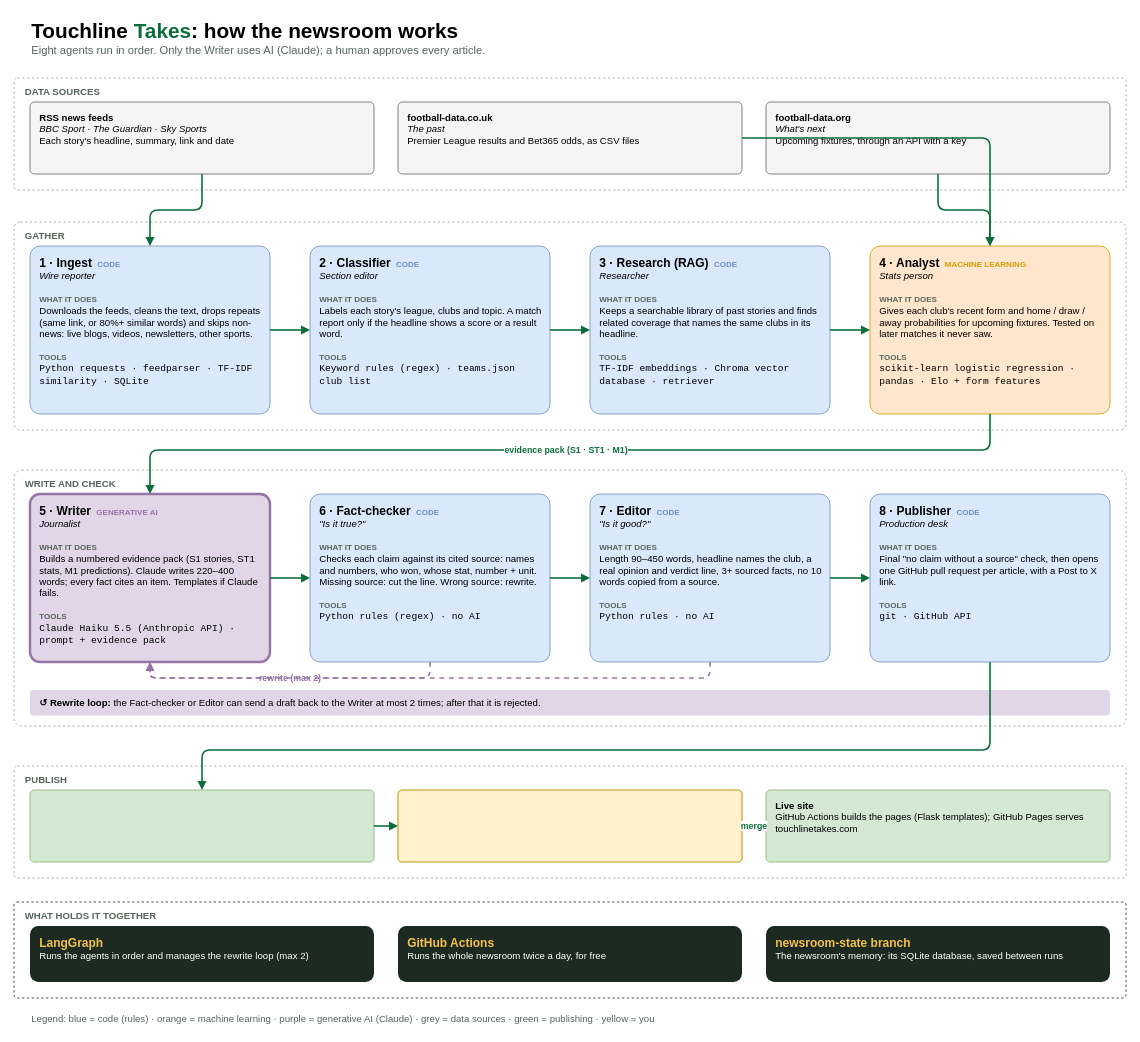
This 1140x1042 diagram has some shape labels left out. The centre of each missing label's shape, as x and y in pixels:
GitHub pull request The article, its sources and claim count, ready to review: pixel 201 825
You merge Editor-in-chief: merge publishes, close rejects: pixel 569 825
